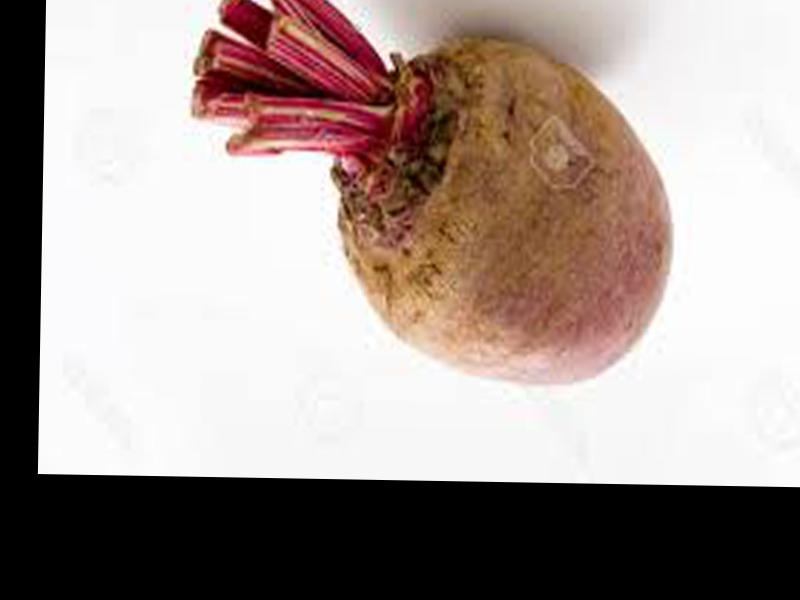Beet: (187, 1, 681, 393)
